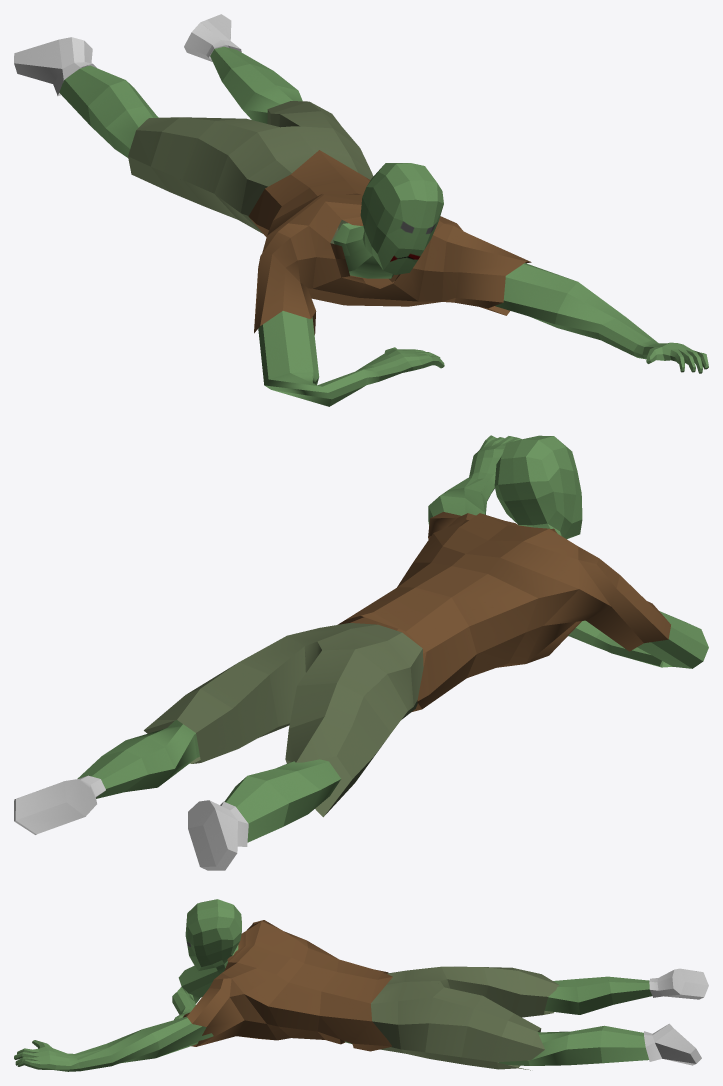
File: ZombieCrawl(112).obj
3 renders of one model, top to bottom at view 1: azimuth 30°, elevation 25°; view 2: azimuth 150°, elevation 25°; view 3: azimuth 270°, elevation 25°, orthographic. The views are drawn at different scales.
Parts seen in each view (by area): view 1: Object001; view 2: Object001; view 3: Object001.
Part boxes in pixels (x1,y1,x2,y2): Object001: (14,14,708,406); Object001: (14,435,708,870); Object001: (14,899,708,1071).
Bounding box in the file's own units: 30.09 × 18.07 × 77.7.
